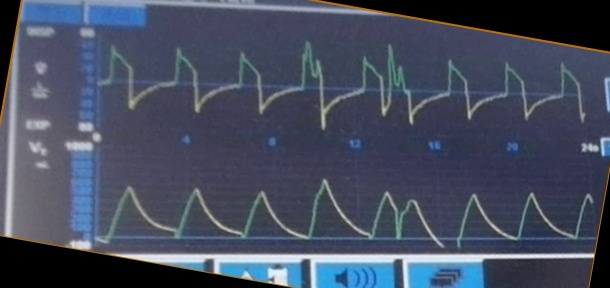Double_Triggering Flow: (113, 42, 557, 132)
Double_Triggering Volume: (108, 174, 575, 248)
